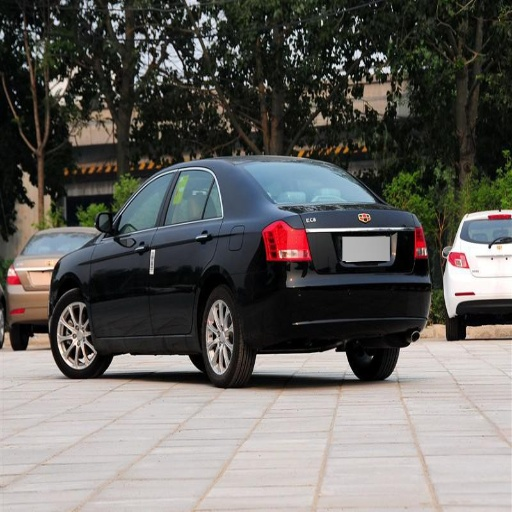back_bumper: (242, 266, 433, 344)
back_glass: (240, 161, 373, 208)
back_left_door: (151, 167, 221, 336)
